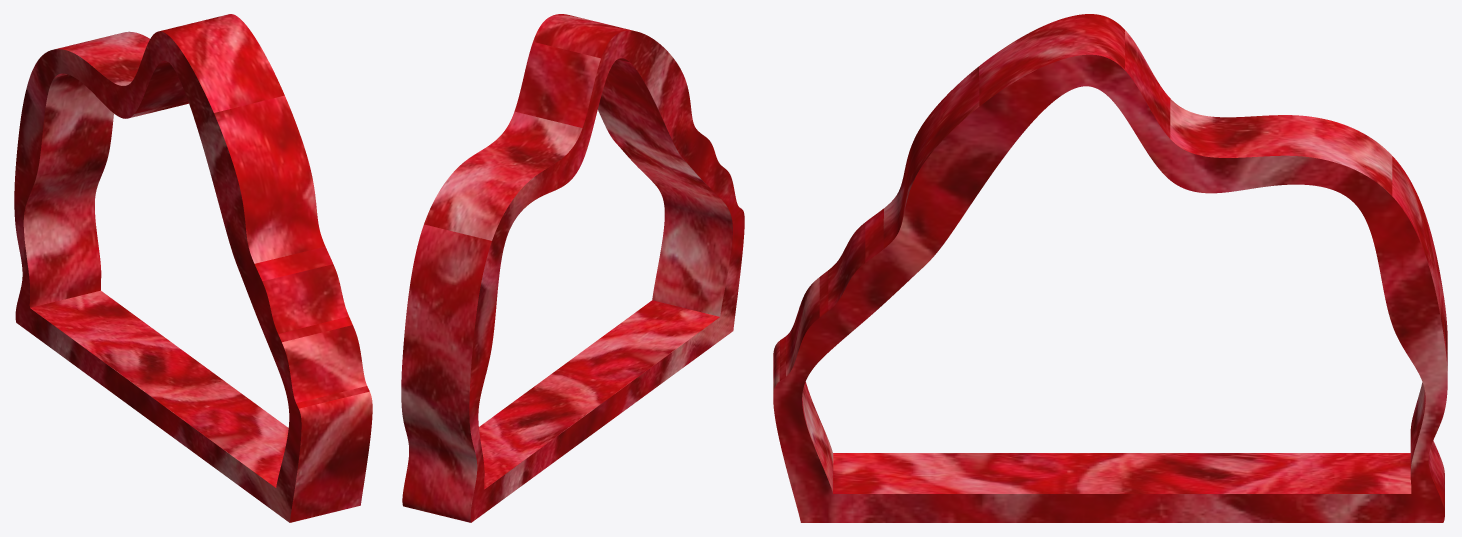
Rendered from random_gate_reversed.dae.
3 renders of one model, left to right at view 1: azimuth 30°, elevation 25°; view 2: azimuth 150°, elevation 25°; view 3: azimuth 270°, elevation 25°, orthographic. The views are drawn at different scales.
Parts seen in each view (by area): view 1: _c345f69f72c2715eaac0cc1; view 2: _c345f69f72c2715eaac0cc1; view 3: _c345f69f72c2715eaac0cc1.
Boxes of the visible parts, x1=… form: _c345f69f72c2715eaac0cc1: x1=14, y1=14, x2=372, y2=522; _c345f69f72c2715eaac0cc1: x1=401, y1=14, x2=744, y2=522; _c345f69f72c2715eaac0cc1: x1=773, y1=14, x2=1447, y2=522.
Bounding box in the file's own units: 0.3 × 2.1 × 1.61.
